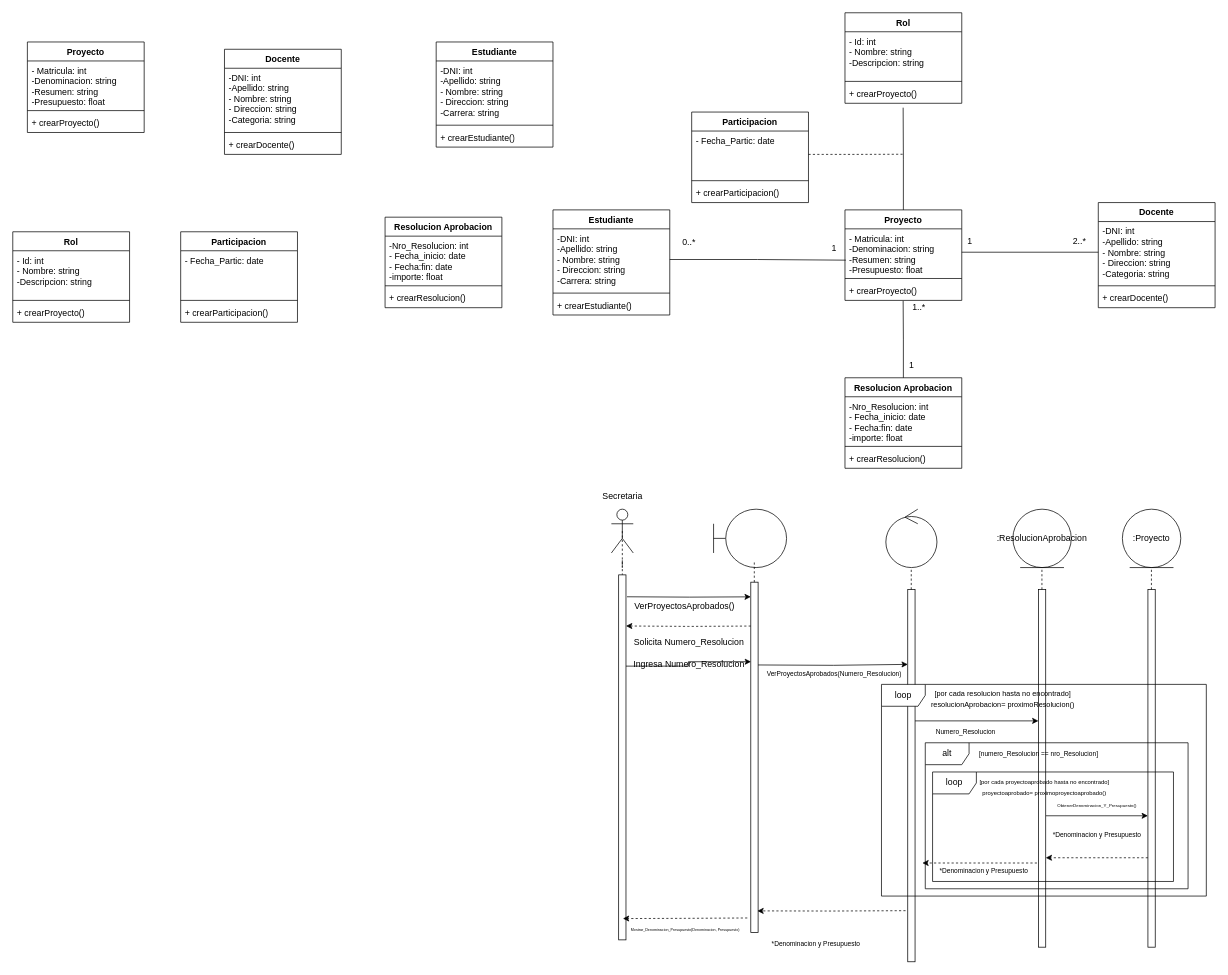
This 1228x975 diagram has some shape labels left out. Here are the shapes that lost their labels. From the top down, the centre of each, then its label:
At (750,538): ":Interfaz".
At (911,538): ":GestorResolucion".
